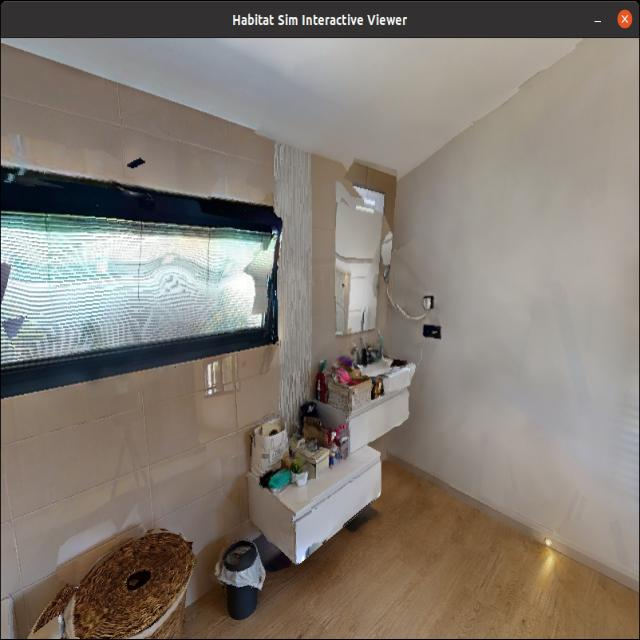sink: (334, 339, 421, 432)
